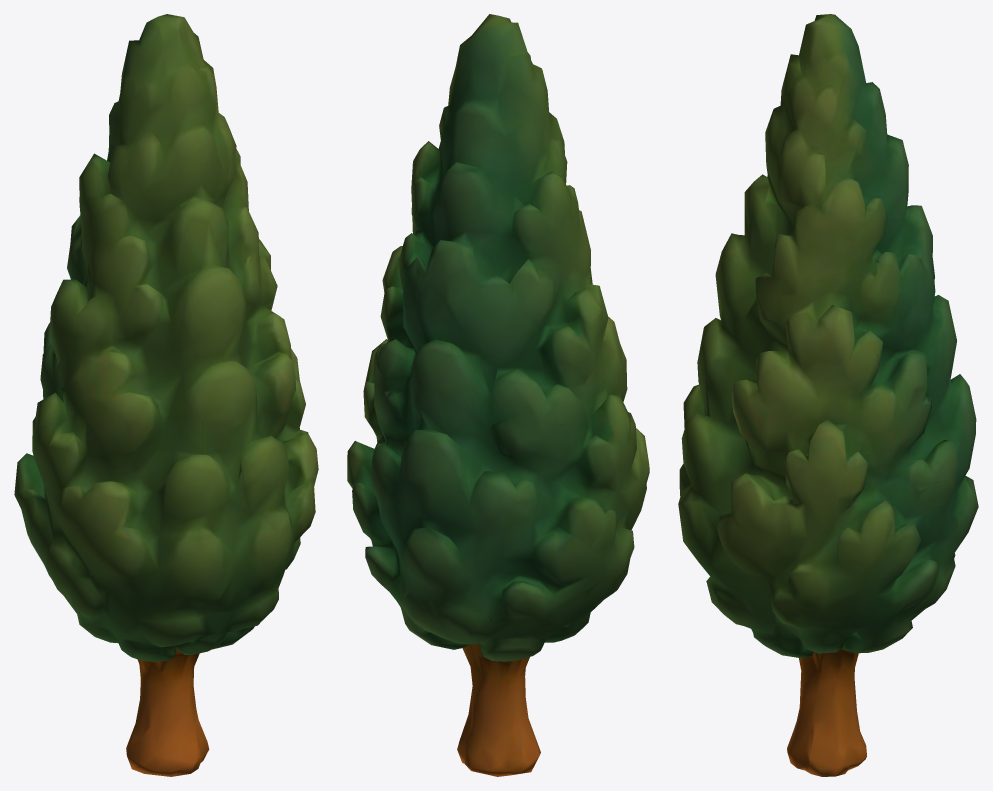
The model's file is cypress.glb.
3 renders of one model, left to right at view 1: azimuth 30°, elevation 25°; view 2: azimuth 150°, elevation 25°; view 3: azimuth 270°, elevation 25°, orthographic.
Parts seen in each view (by area): view 1: tripo_node_73e0ba0f-6beb-4fb9-9177-9bbf8bcc7d08; view 2: tripo_node_73e0ba0f-6beb-4fb9-9177-9bbf8bcc7d08; view 3: tripo_node_73e0ba0f-6beb-4fb9-9177-9bbf8bcc7d08.
Part boxes in pixels (x1=…): tripo_node_73e0ba0f-6beb-4fb9-9177-9bbf8bcc7d08: x1=14, y1=14, x2=318, y2=776; tripo_node_73e0ba0f-6beb-4fb9-9177-9bbf8bcc7d08: x1=347, y1=14, x2=649, y2=776; tripo_node_73e0ba0f-6beb-4fb9-9177-9bbf8bcc7d08: x1=678, y1=14, x2=978, y2=776.
Bounding box in the file's own units: 0.3646 × 1 × 0.3664.
1 material, 1 textured.
